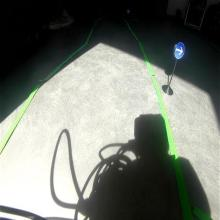right: (173, 41, 186, 60)
